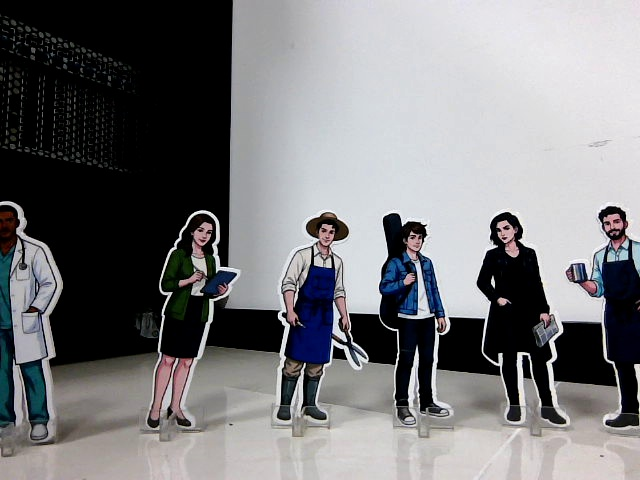community_person: (470, 203, 573, 444), (142, 202, 244, 445), (265, 204, 368, 444), (373, 205, 464, 443), (560, 192, 640, 446), (0, 188, 72, 460)
